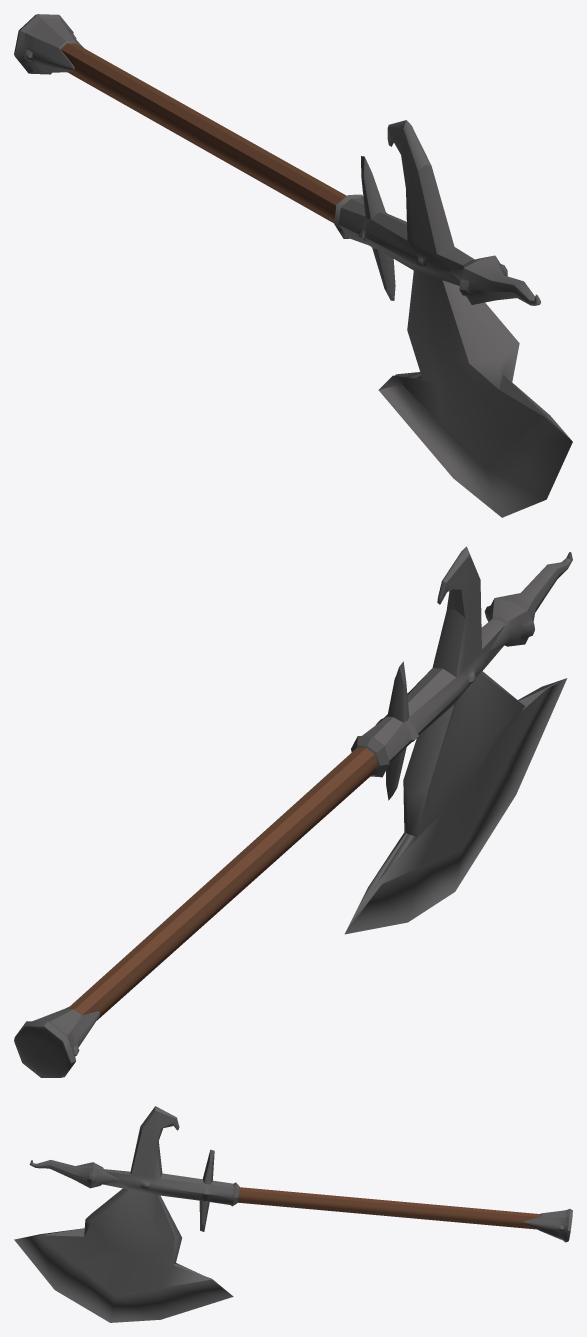
File: redcap_axe.obj
3 renders of one model, top to bottom at view 1: azimuth 30°, elevation 25°; view 2: azimuth 150°, elevation 25°; view 3: azimuth 270°, elevation 25°, orthographic. The views are drawn at different scales.
Visible parts, largest first — view 1: redcap_axe1:pCube1 Axe_locator; view 2: redcap_axe1:pCube1 Axe_locator; view 3: redcap_axe1:pCube1 Axe_locator.
Boxes of the visible parts, x1,y1,x2,y2 form: redcap_axe1:pCube1 Axe_locator: (14, 14, 572, 517); redcap_axe1:pCube1 Axe_locator: (14, 546, 572, 1077); redcap_axe1:pCube1 Axe_locator: (14, 1106, 572, 1322).
Size of the model in its own units: 0.6969 by 4.2 by 10.49.
Materials: 1 (1 with a texture image).
